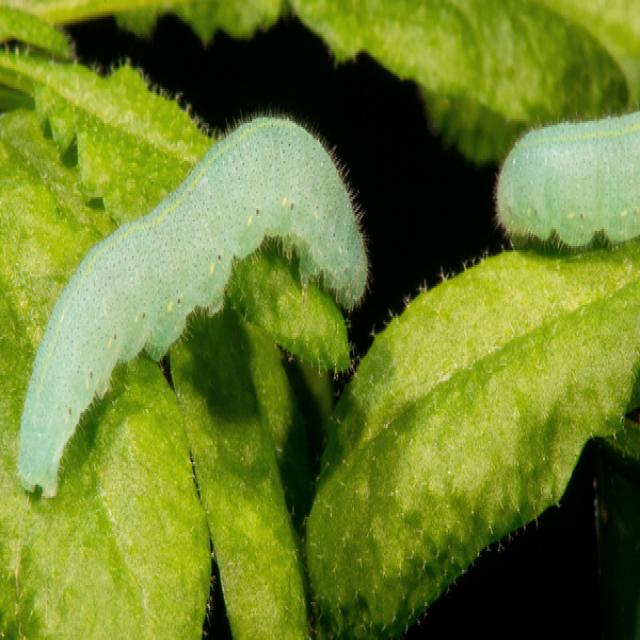caterpillar: (11, 84, 382, 518), (483, 86, 640, 315)
